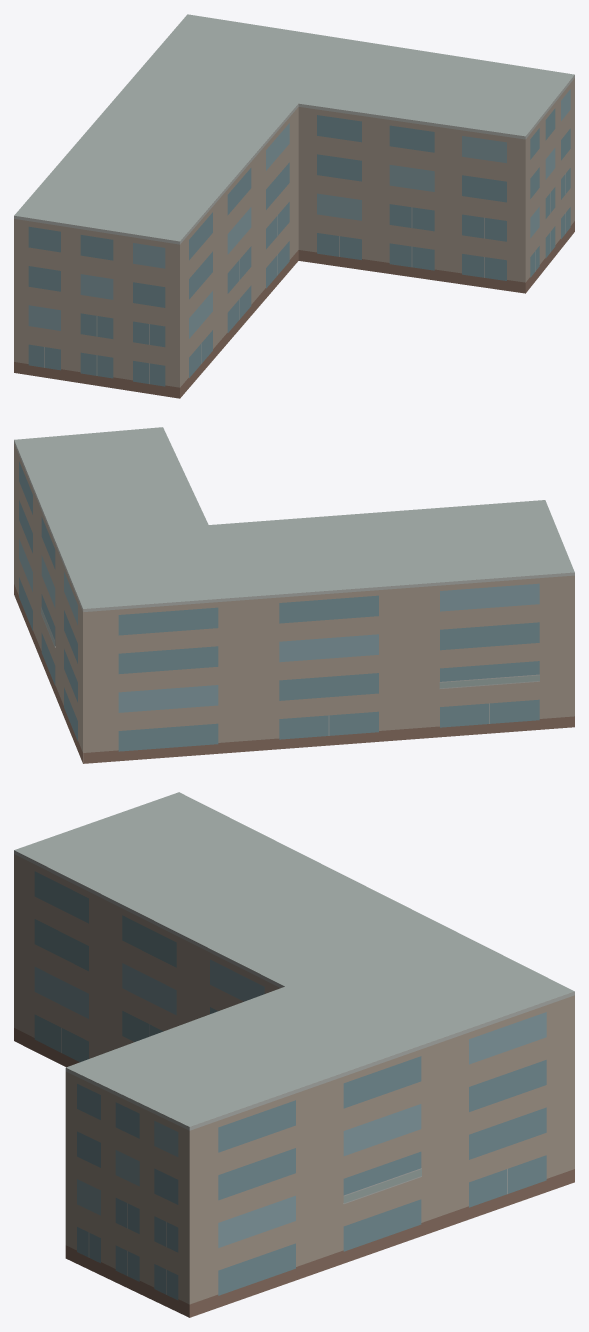
Rendered from residential-e11cff48-8690-4d4a-a149-ef31007e3237.glb.
3 renders of one model, top to bottom at view 1: azimuth 30°, elevation 25°; view 2: azimuth 150°, elevation 25°; view 3: azimuth 270°, elevation 25°, orthographic. The views are drawn at different scales.
Visible parts, largest first — view 1: residential-e11cff48-8690-4d4a-a149-ef31007e3237.tmp; view 2: residential-e11cff48-8690-4d4a-a149-ef31007e3237.tmp; view 3: residential-e11cff48-8690-4d4a-a149-ef31007e3237.tmp.
Boxes of the visible parts, box(x1,y1,x2,y2) form: residential-e11cff48-8690-4d4a-a149-ef31007e3237.tmp: box(14, 14, 574, 398); residential-e11cff48-8690-4d4a-a149-ef31007e3237.tmp: box(14, 427, 574, 763); residential-e11cff48-8690-4d4a-a149-ef31007e3237.tmp: box(14, 792, 574, 1317).
Size of the model in its own units: 45.92 by 12.2 by 32.5.
